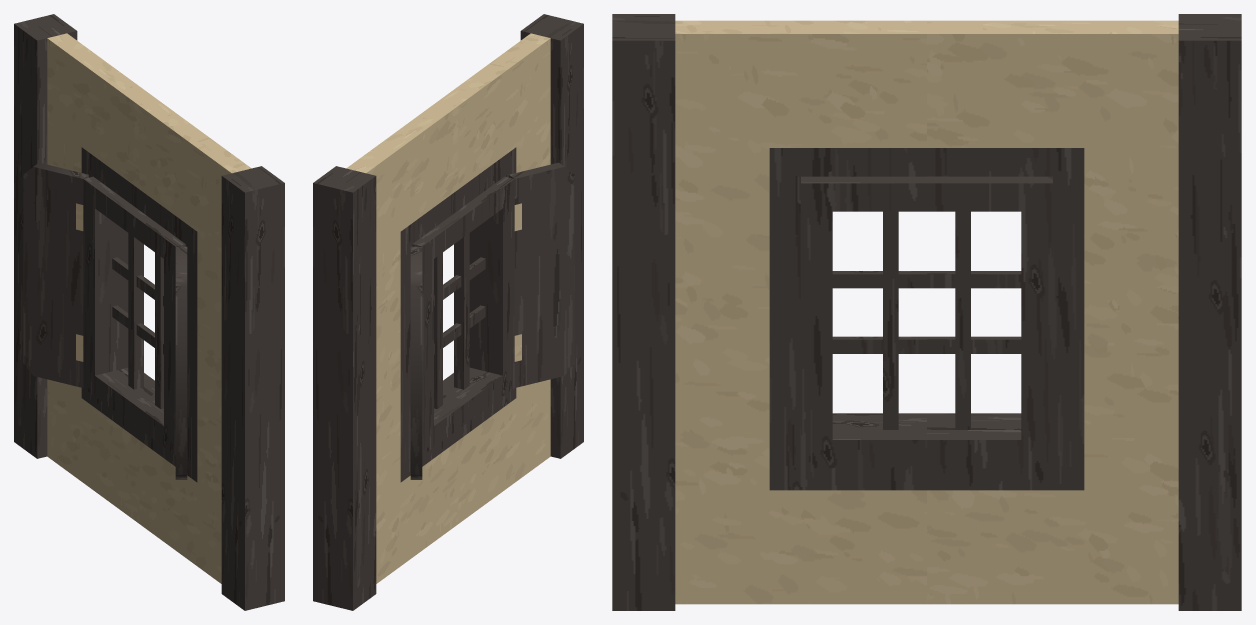
Rendered from wall-window-shutters.gltf.
3 renders of one model, left to right at view 1: azimuth 30°, elevation 25°; view 2: azimuth 150°, elevation 25°; view 3: azimuth 270°, elevation 25°, orthographic. The views are drawn at different scales.
Visible parts, largest first — view 1: wall-window-shutters; view 2: wall-window-shutters; view 3: wall-window-shutters.
Part boxes in pixels (box(x1,y1,x2,y2)): wall-window-shutters: box(14, 14, 284, 610); wall-window-shutters: box(313, 14, 583, 610); wall-window-shutters: box(612, 14, 1241, 610).
Size of the model in its own units: 0.175 by 1 by 1.
Materials: 2 (2 with a texture image).
